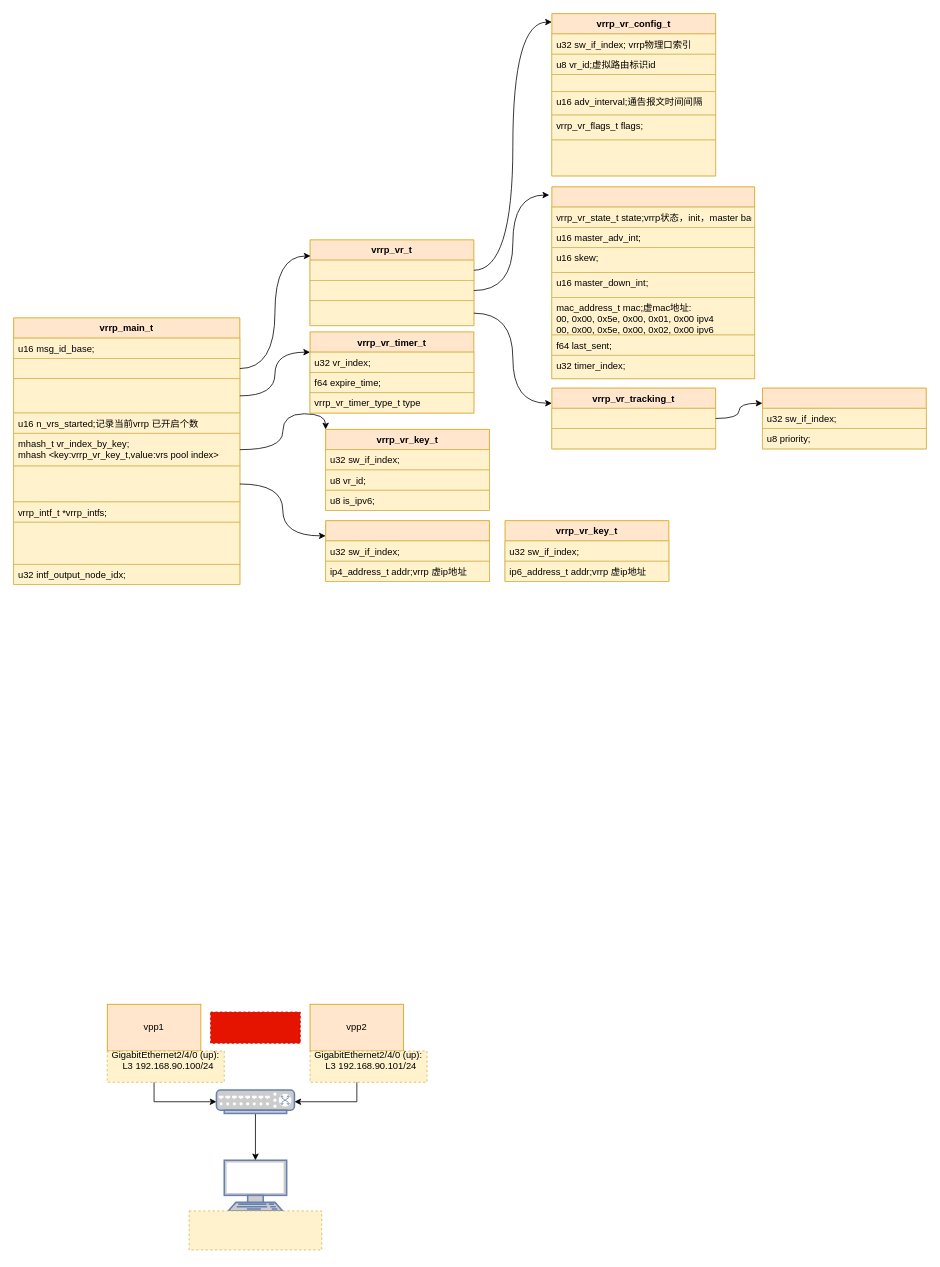
The diagram is 940 pixels wide and 1267 high, and some of its shapes have lost their labels. Each missing label, with the box of its shape:
ens160: L3 192.168.90.20/24 gw:192.168.90.50: (188, 1210, 322, 1250)
ip46_address_t *vr_addrs; ip46_address_t *peer_addrs;: (551, 139, 716, 176)
u32 interfaces_dec;: (551, 428, 716, 449)
u8 priority;优先级: (551, 74, 716, 92)
uword *vrrp4_arp_lookup; uword *vrrp6_nd_lookup;: (13, 465, 240, 502)
vlib_main_t *vlib_main; vnet_main_t *vnet_main; ethernet_main_t *ethernet_main;: (13, 521, 240, 564)
vrrp ip 192.168.90.50: (210, 1011, 300, 1043)
vrrp4_arp_key_t: (325, 520, 489, 581)
vrrp_vr_config_t config;: (309, 259, 474, 280)
vrrp_vr_runtime_t: (551, 186, 755, 379)
vrrp_vr_runtime_t runtime;: (309, 280, 474, 301)
vrrp_vr_t *vrs;pool内存池，记录vrrp配置数据: (13, 358, 240, 379)
vrrp_vr_timer_t *vr_timers; u32 *pending_timers;: (13, 378, 240, 413)
vrrp_vr_tracking_if_t: (762, 387, 926, 449)
vrrp_vr_tracking_if_t *interfaces;: (551, 408, 716, 429)
vrrp_vr_tracking_t tracking;: (309, 300, 474, 326)
